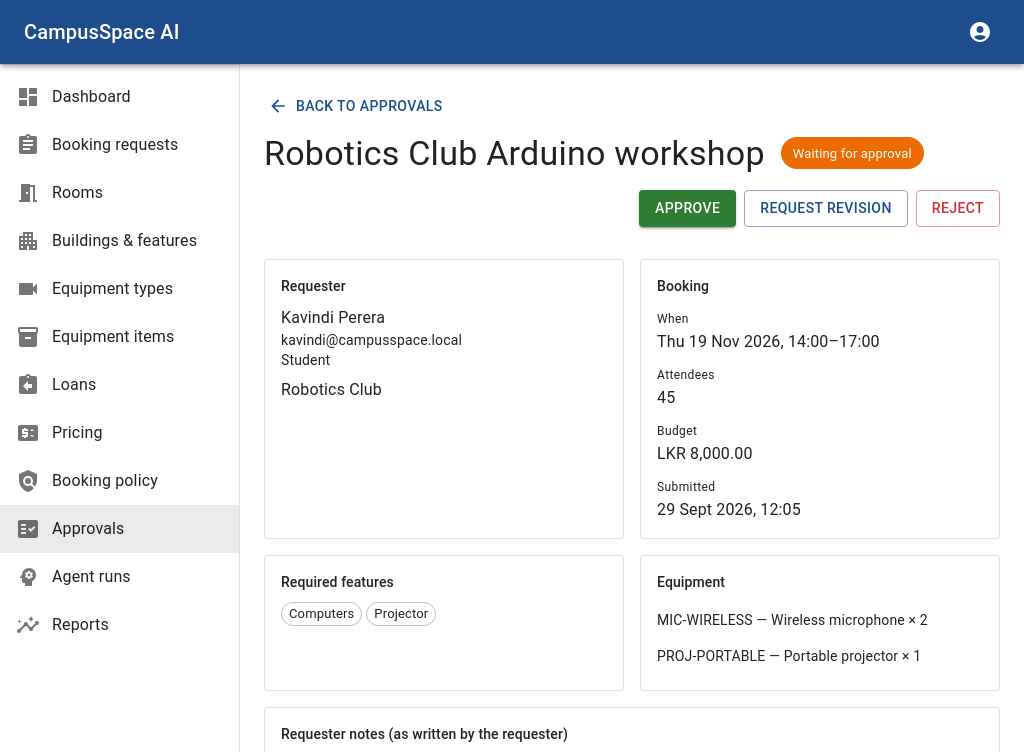
ApprovalDetailPage › approves: 200 shows Approved
The width and height of the screenshot is (1024, 752).
Click the button "Approve".
click(688, 209)  # box [639,190,736,227]
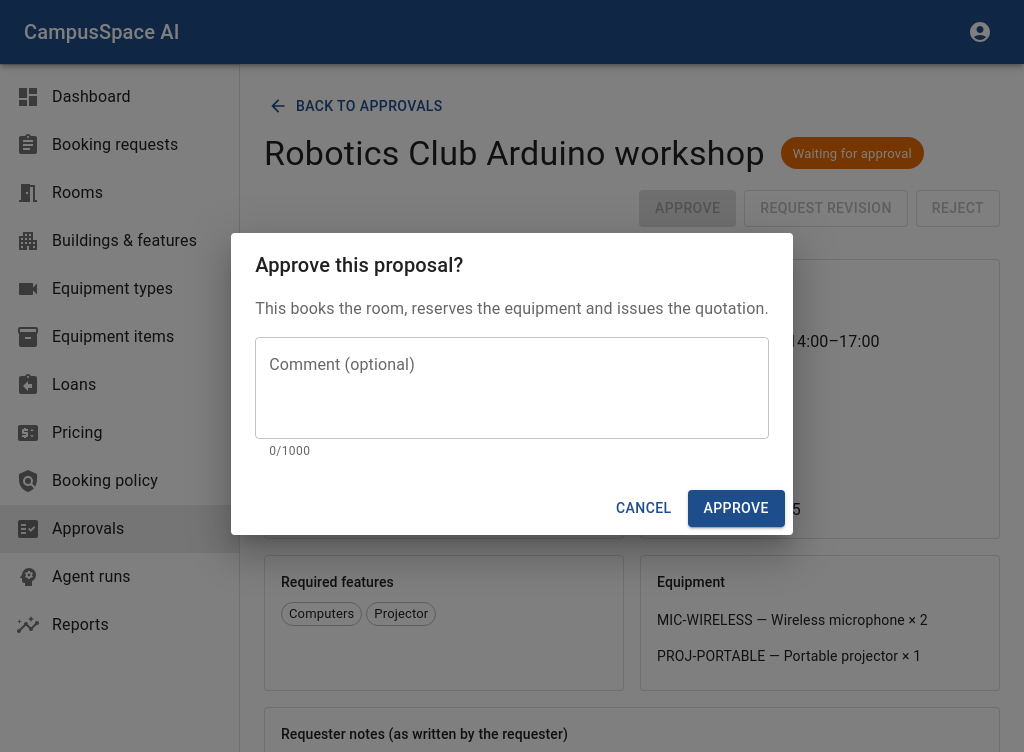
Type "Looks good" into the text box labelled "Comment (optional)".
click(512, 388); type("Looks good")  # box [269,354,755,423]
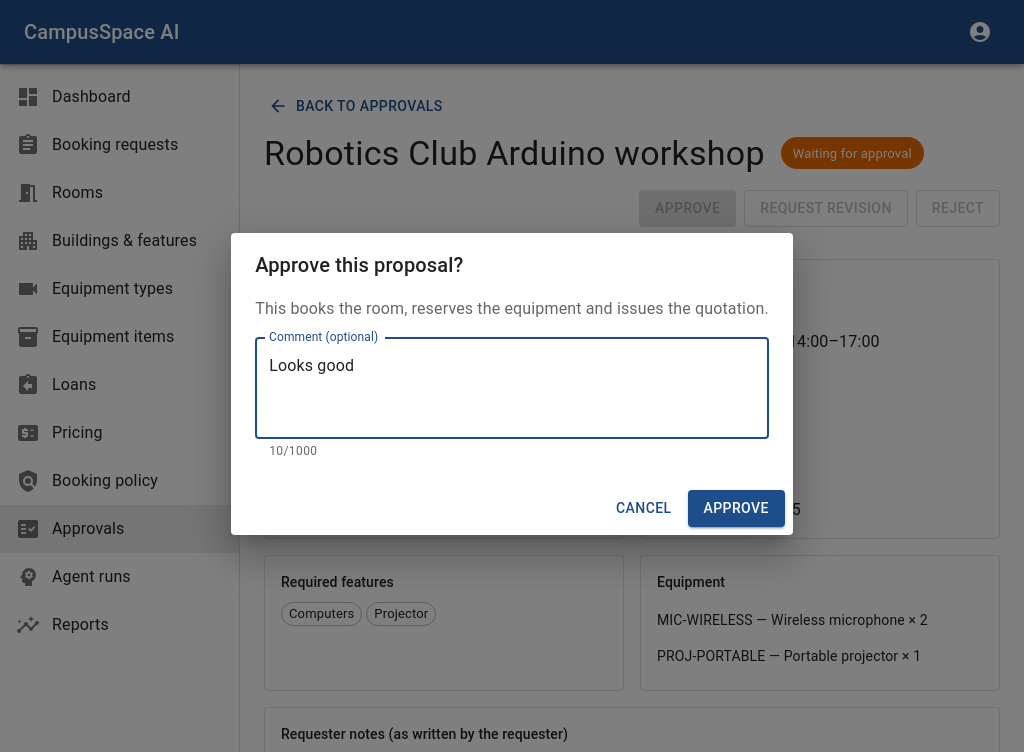
Click the button "Approve".
click(736, 508)  # box [688,490,785,527]
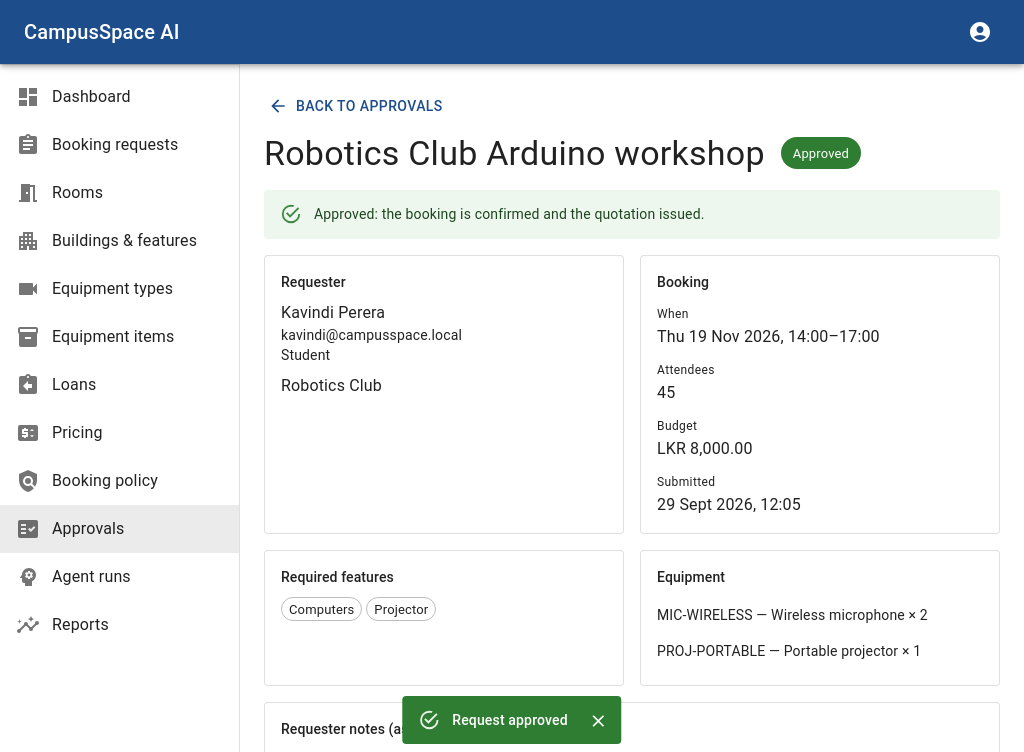
expect the text "Request approved" is shown: met, box [452,712,568,728]
expect the text "Approved: the booking is confirmed and the quotation issued." is shown: met, box [314,206,704,222]
